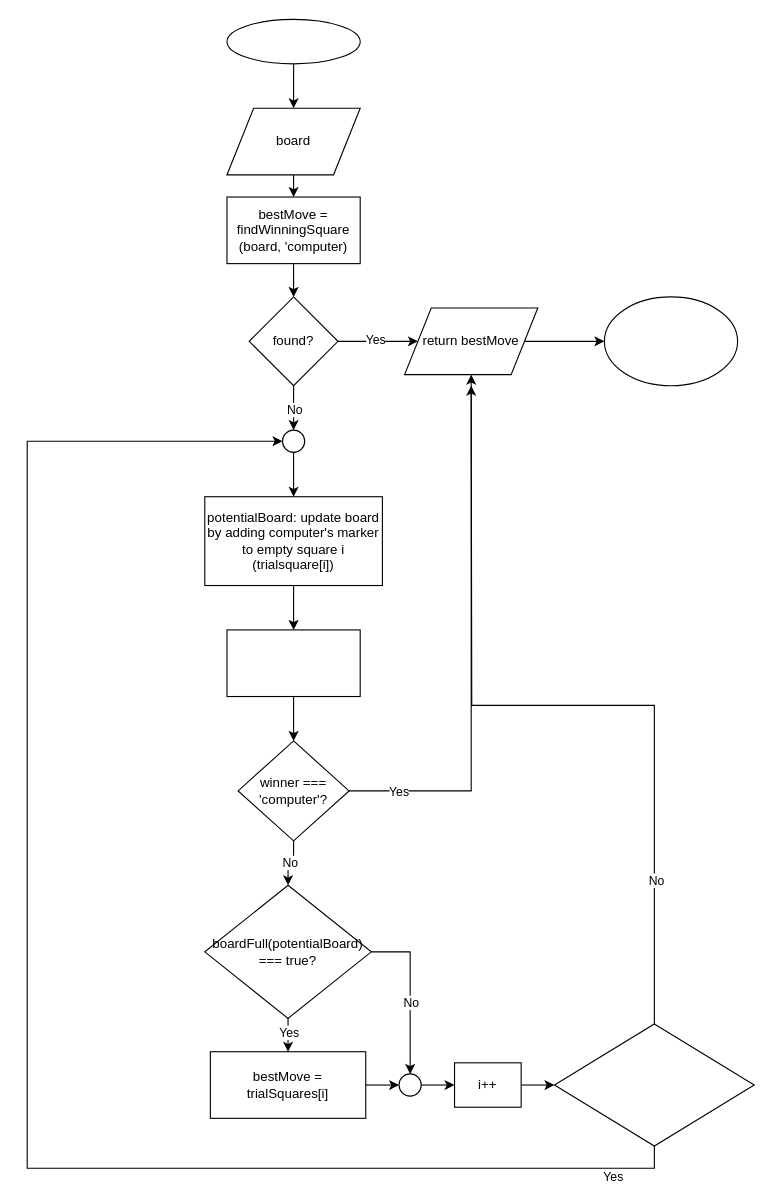
The diagram is 774 pixels wide and 1203 high, and some of its shapes have lost their labels. The centre of each missing label's shape, as x and y in pixels:
"End" belongs at (x=670, y=341).
"i < trialSquares.length ?" belongs at (x=653, y=1084).
"Start" belongs at (x=293, y=41).
"winner = findWinnerMiniMax (potentialboard, 'human')" belongs at (x=293, y=663).
